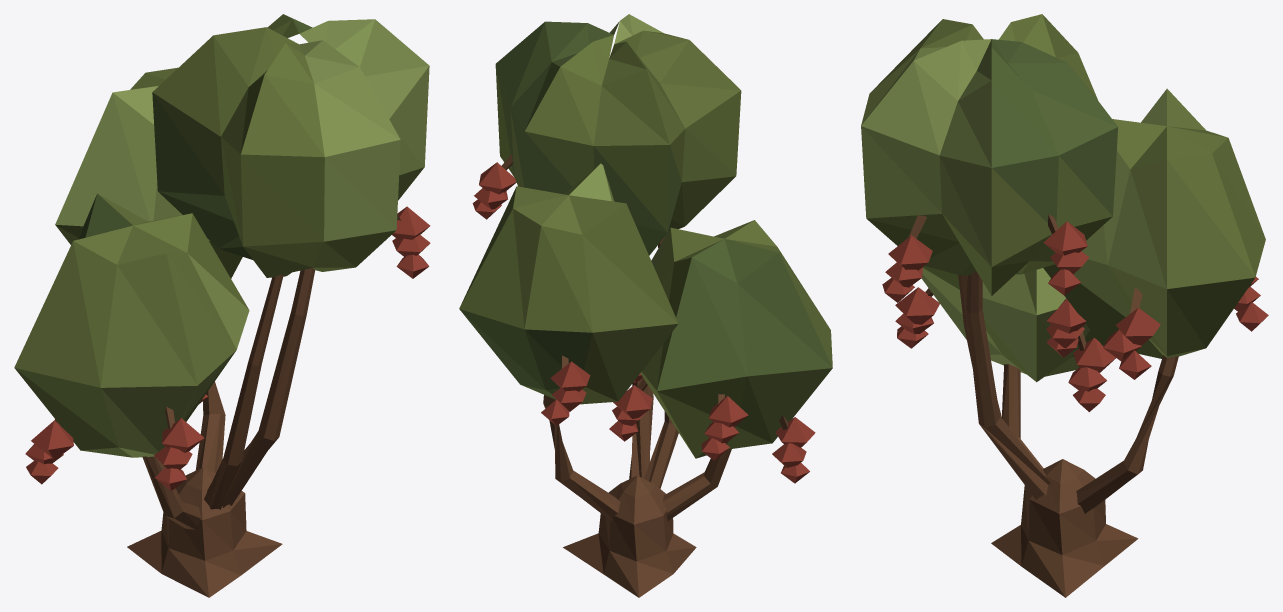
Rendered from berry-bush-ee4812.glb.
3 views of the same model, side by side, from view 1: azimuth 30°, elevation 25°; view 2: azimuth 150°, elevation 25°; view 3: azimuth 270°, elevation 25° (orthographic). The views are drawn at different scales.
Visible parts, largest first — view 1: berry-bush-mesh, fruit-4-mesh, fruit-0-mesh, fruit-2-mesh; view 2: berry-bush-mesh, fruit-7-mesh, fruit-2-mesh, fruit-5-mesh, fruit-1-mesh, fruit-3-mesh; view 3: berry-bush-mesh, fruit-8-mesh, fruit-0-mesh, fruit-1-mesh, fruit-3-mesh, fruit-4-mesh, fruit-6-mesh, fruit-7-mesh.
Boxes of the visible parts, bbox=[...] form: berry-bush-mesh: bbox=[14, 14, 429, 597]; fruit-4-mesh: bbox=[154, 407, 204, 490]; fruit-0-mesh: bbox=[392, 206, 430, 278]; fruit-2-mesh: bbox=[25, 419, 73, 484]; berry-bush-mesh: bbox=[459, 14, 832, 597]; fruit-7-mesh: bbox=[541, 355, 590, 425]; fruit-2-mesh: bbox=[772, 415, 815, 483]; fruit-5-mesh: bbox=[701, 394, 748, 460]; fruit-1-mesh: bbox=[472, 154, 516, 219]; fruit-3-mesh: bbox=[609, 378, 652, 441]; berry-bush-mesh: bbox=[861, 14, 1265, 597]; fruit-8-mesh: bbox=[1103, 288, 1160, 379]; fruit-0-mesh: bbox=[882, 215, 932, 302]; fruit-1-mesh: bbox=[1043, 214, 1089, 295]; fruit-3-mesh: bbox=[1068, 332, 1115, 412]; fruit-4-mesh: bbox=[895, 287, 939, 348]; fruit-6-mesh: bbox=[1046, 298, 1086, 357]; fruit-7-mesh: bbox=[1234, 276, 1268, 331].
Size of the model in its own units: 0.7322 by 0.9748 by 0.6494.
